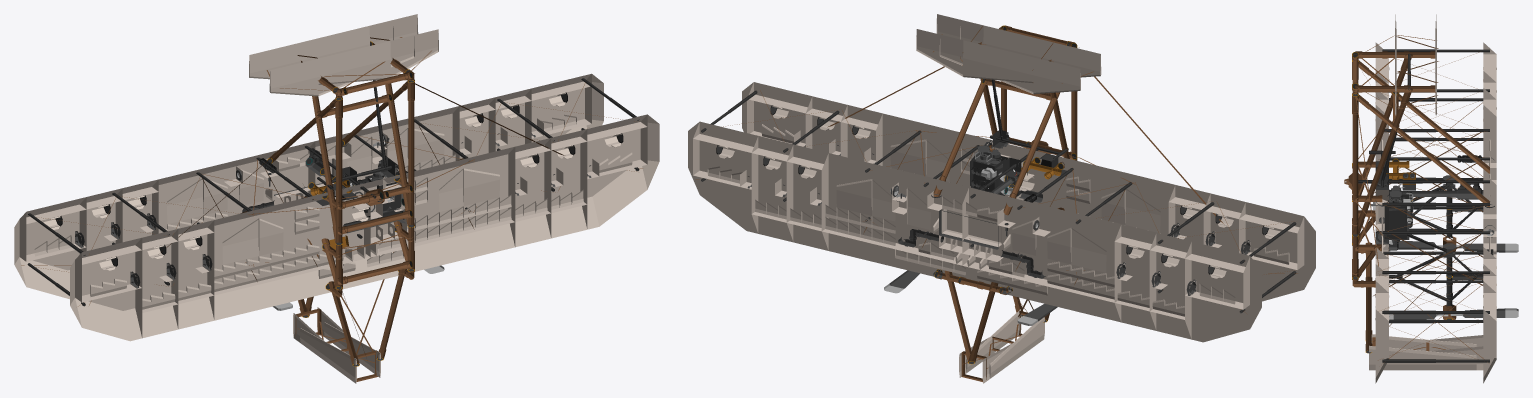
File: 10685-b15b7add-98a3-4b09-a2e7-0f7811008bf4.glb
The picture shows the model from 3 angles, left to right: view 1: azimuth 30°, elevation 25°; view 2: azimuth 150°, elevation 25°; view 3: azimuth 270°, elevation 25°; orthographic projection. The views are drawn at different scales.
Parts seen in each view (by area): view 1: Object_4.Mesh; view 2: Object_4.Mesh; view 3: Object_4.Mesh.
Part boxes in pixels (box(x1,y1,x2,y2)): Object_4.Mesh: box(14, 14, 659, 383); Object_4.Mesh: box(688, 14, 1315, 383); Object_4.Mesh: box(1344, 14, 1518, 383).
Size of the model in its own units: 2 by 1.04 by 0.5301.
